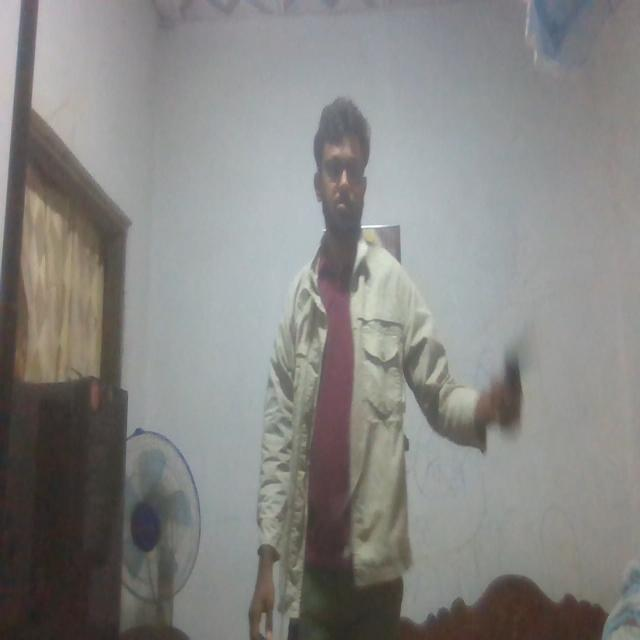Gun_Holder: (488, 326, 550, 422)
Jacket_Wearer: (239, 255, 487, 605)
Person: (252, 96, 528, 640)
